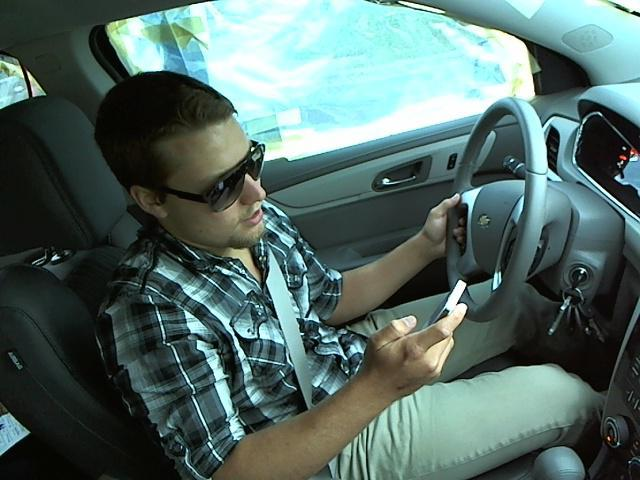PhoneUse: (418, 273, 470, 346)
